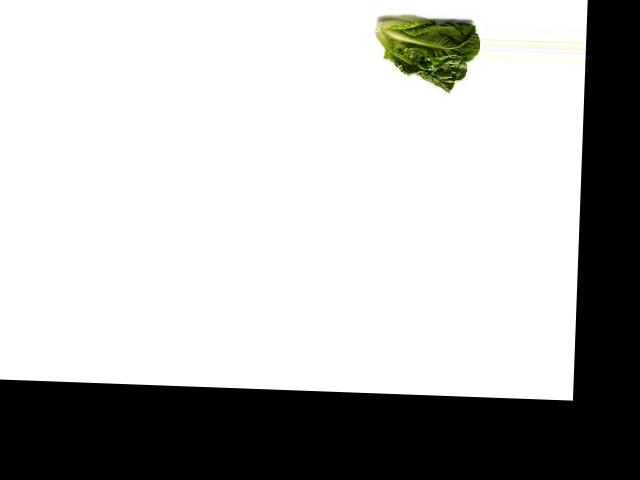lettuce: (368, 1, 481, 93)
